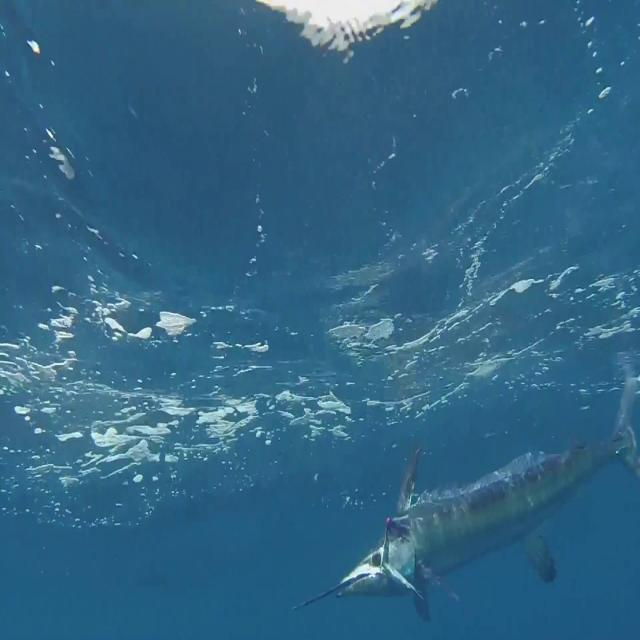Spear Fish: (291, 368, 640, 624)
